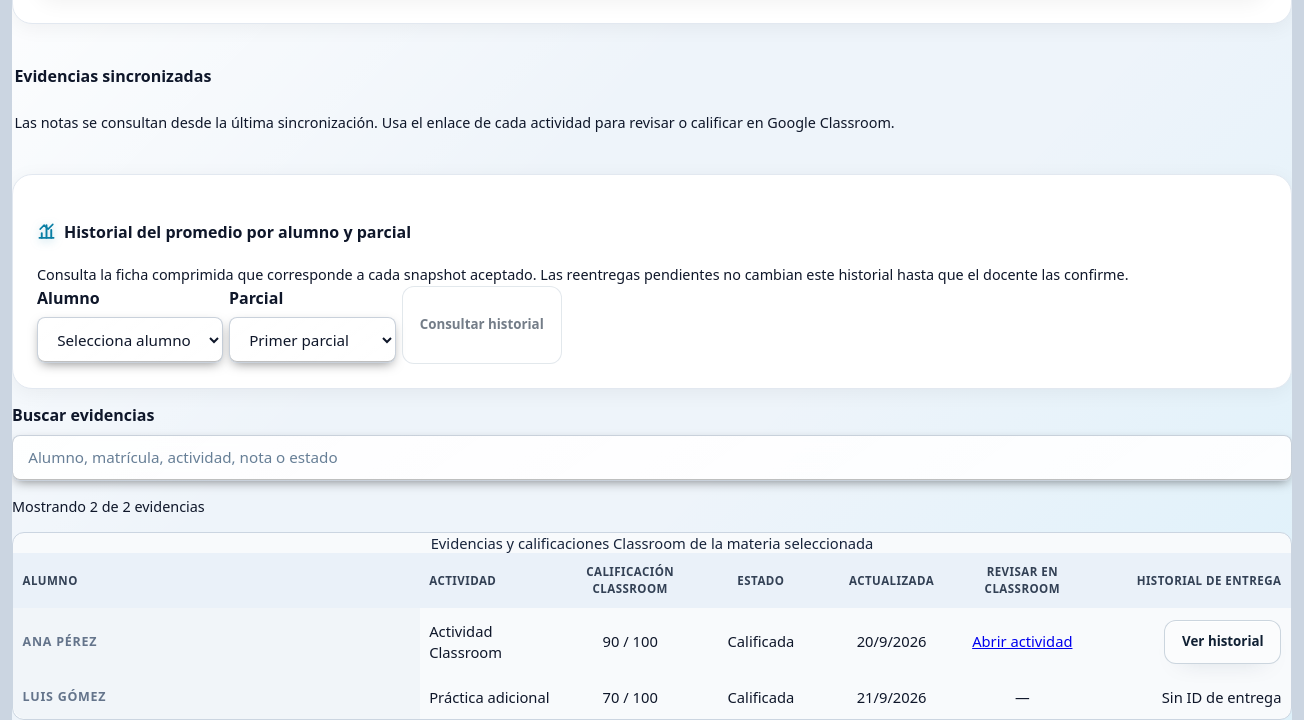
Test: ClassroomEnCalificaciones › permite consultar desde cada evidencia su historial de entrega paginado
This screenshot has width=1304, height=720.
(page scrolled)
Click the button "Ver historial": (1223, 642) x1=1164 y1=620 x2=1281 y2=664
(page scrolled)
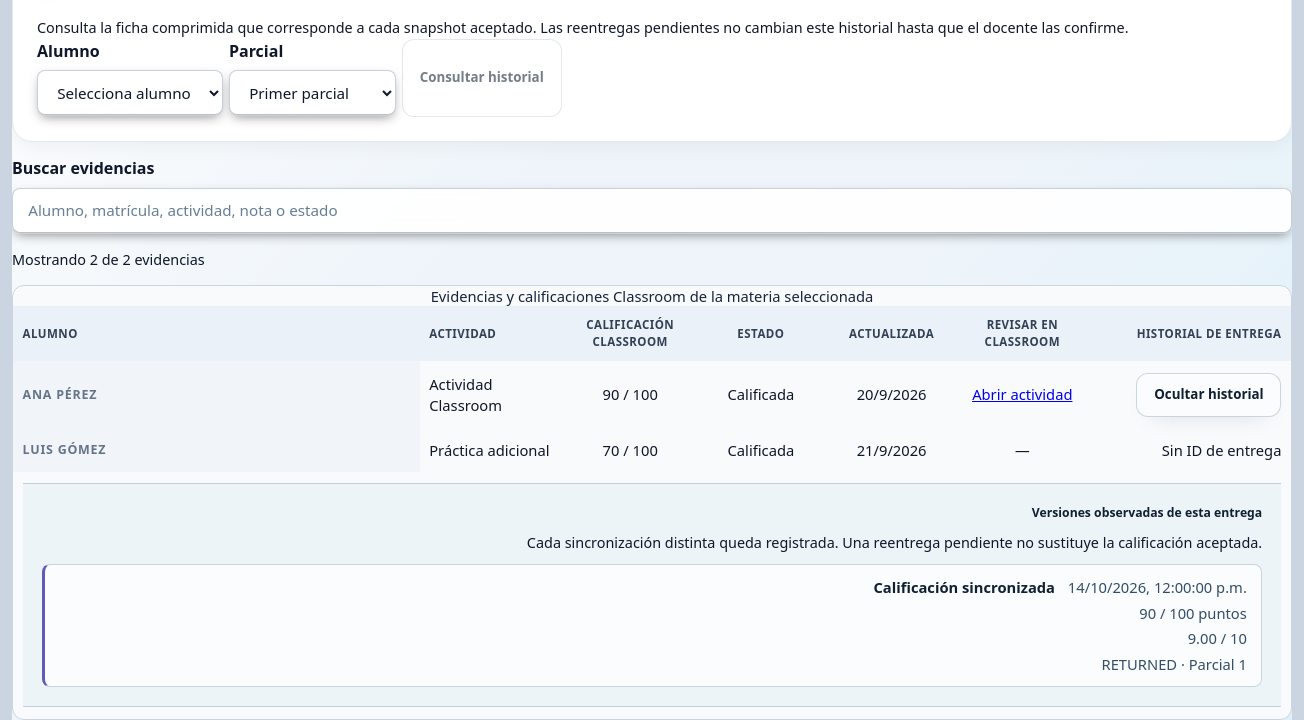
Check: the element named "Historial de la entrega" is shown, box x1=23 y1=483 x2=1281 y2=707
Check: the text "Calificación sincronizada" is shown, box x1=874 y1=577 x2=1055 y2=597
Check: the text "90 / 100 puntos" is shown, box x1=1139 y1=603 x2=1247 y2=623
